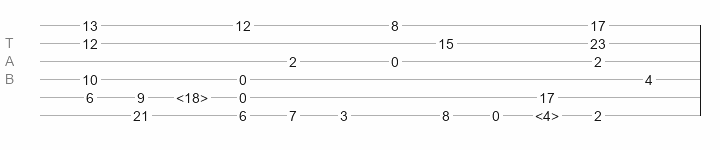0: (239, 90, 247, 100), (239, 72, 247, 82), (391, 54, 399, 64), (492, 108, 500, 118)
10: (82, 72, 98, 82)
12: (82, 36, 98, 46), (235, 18, 251, 28)
13: (82, 18, 98, 28)
15: (438, 36, 454, 46)
17: (539, 90, 555, 100), (590, 18, 606, 28)
2: (289, 54, 297, 64), (594, 108, 602, 118), (594, 54, 602, 64)
21: (133, 108, 149, 118)
23: (590, 36, 606, 46)
3: (340, 108, 348, 118)
4: (645, 72, 653, 82)
6: (86, 90, 94, 100), (239, 108, 247, 118)
7: (289, 108, 297, 118)
8: (391, 18, 399, 28), (442, 108, 450, 118)
9: (137, 90, 145, 100)
harmonic: (176, 90, 208, 100), (535, 108, 559, 118)
